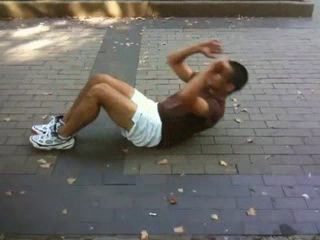sit_up: (17, 26, 243, 162)
